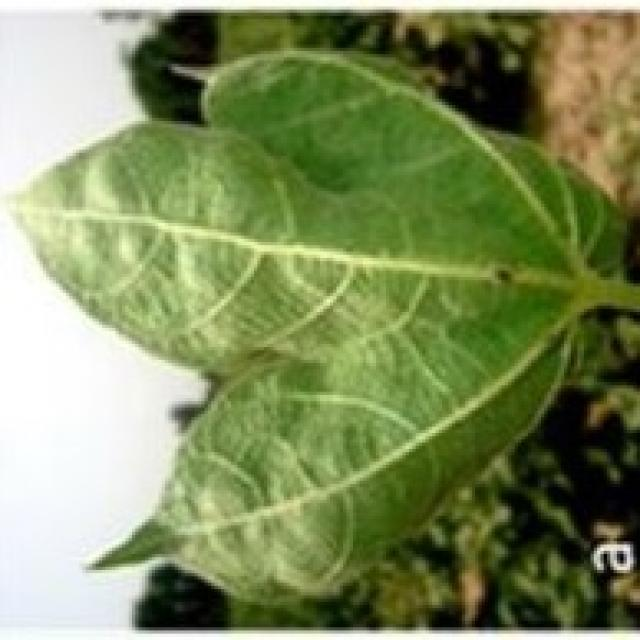Leaf Curl Virus: (101, 123, 478, 537)
